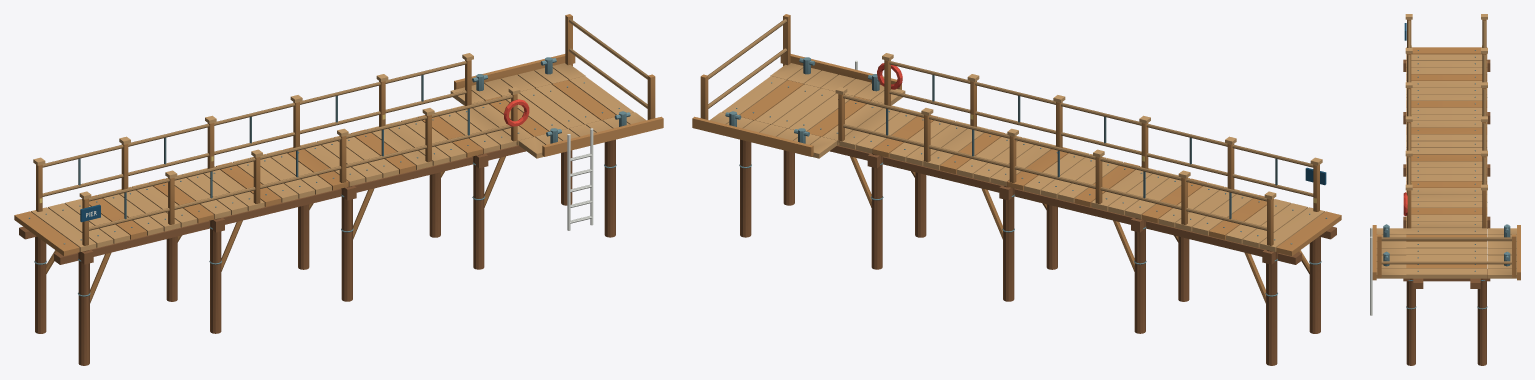
File: pier-low.glb
3 renders of one model, left to right at view 1: azimuth 30°, elevation 25°; view 2: azimuth 150°, elevation 25°; view 3: azimuth 270°, elevation 25°, orthographic. The views are drawn at different scales.
Parts seen in each view (by area): view 1: planed deck board.001, planed deck board, continuous bearer, deck countersunk bolt, ladder rail; view 2: planed deck board.001, planed deck board, continuous bearer, deck countersunk bolt; view 3: planed deck board.001, planed deck board, continuous bearer, deck countersunk bolt, ladder rail.
Boxes of the visible parts, left/top/right/bottom form: planed deck board.001: left=31, top=19, right=647, bottom=251; planed deck board: left=14, top=14, right=663, bottom=303; continuous bearer: left=19, top=116, right=615, bottom=365; deck countersunk bolt: left=28, top=57, right=630, bottom=296; ladder rail: left=86, top=128, right=593, bottom=230; planed deck board.001: left=708, top=19, right=1324, bottom=251; planed deck board: left=692, top=14, right=1341, bottom=303; continuous bearer: left=740, top=116, right=1336, bottom=365; deck countersunk bolt: left=725, top=57, right=1327, bottom=296; planed deck board.001: left=1376, top=14, right=1516, bottom=278; planed deck board: left=1372, top=19, right=1520, bottom=280; continuous bearer: left=1403, top=59, right=1490, bottom=365; deck countersunk bolt: left=1383, top=50, right=1510, bottom=309; ladder rail: left=1370, top=227, right=1372, bottom=315.
Size of the model in its own units: 10.13 by 2.85 by 2.8.
